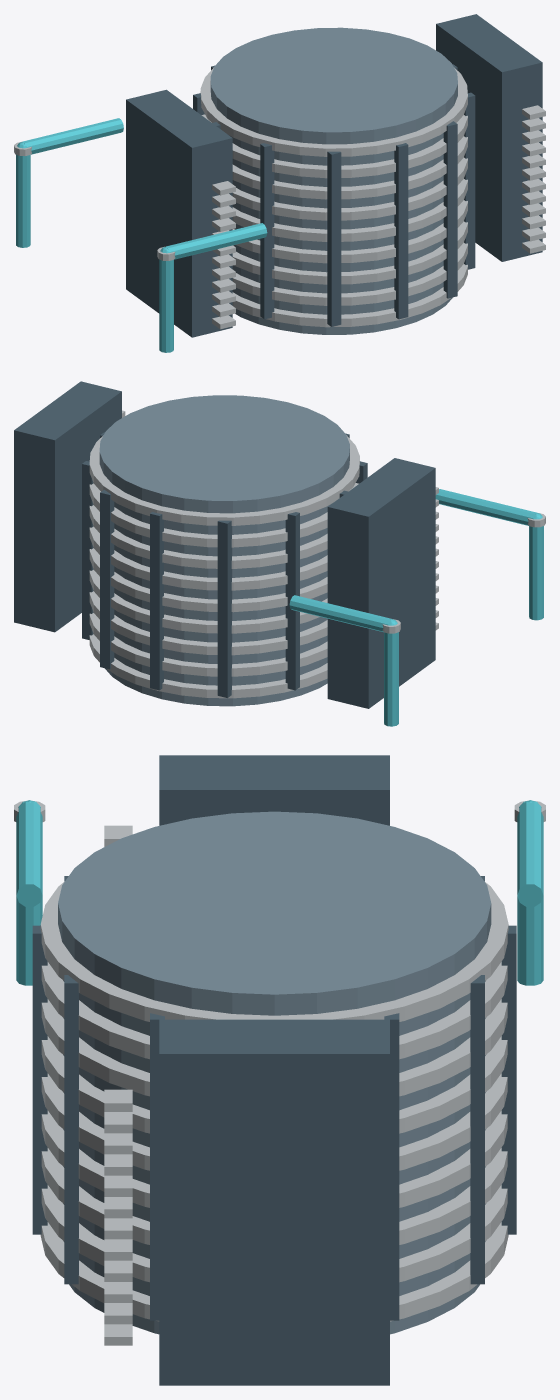
The model's file is 15_L74_VirtualDUVLightSource.glb.
3 views of the same model, one above another, from view 1: azimuth 30°, elevation 25°; view 2: azimuth 150°, elevation 25°; view 3: azimuth 270°, elevation 25° (orthographic). The views are drawn at different scales.
Parts seen in each view (by area): view 1: VirtualDUVLightSource_Node_0000, VirtualDUVLightSource_Node_0035, VirtualDUVLightSource_Node_0048, VirtualDUVLightSource_Node_0017, VirtualDUVLightSource_Node_0001, VirtualDUVLightSource_Node_0015, VirtualDUVLightSource_Node_0013, VirtualDUVLightSource_Node_0005, VirtualDUVLightSource_Node_0011, VirtualDUVLightSource_Node_0003, VirtualDUVLightSource_Node_0023, VirtualDUVLightSource_Node_0009 (+9 smaller); view 2: VirtualDUVLightSource_Node_0000, VirtualDUVLightSource_Node_0035, VirtualDUVLightSource_Node_0048, VirtualDUVLightSource_Node_0017, VirtualDUVLightSource_Node_0001, VirtualDUVLightSource_Node_0015, VirtualDUVLightSource_Node_0011, VirtualDUVLightSource_Node_0013, VirtualDUVLightSource_Node_0003, VirtualDUVLightSource_Node_0005, VirtualDUVLightSource_Node_0009, VirtualDUVLightSource_Node_0027 (+9 smaller); view 3: VirtualDUVLightSource_Node_0000, VirtualDUVLightSource_Node_0048, VirtualDUVLightSource_Node_0035, VirtualDUVLightSource_Node_0017, VirtualDUVLightSource_Node_0013, VirtualDUVLightSource_Node_0015, VirtualDUVLightSource_Node_0001, VirtualDUVLightSource_Node_0003, VirtualDUVLightSource_Node_0007, VirtualDUVLightSource_Node_0005, VirtualDUVLightSource_Node_0009, VirtualDUVLightSource_Node_0011 (+10 smaller).
Part boxes in pixels (box(x1,y1,x2,y2)): VirtualDUVLightSource_Node_0000: box(210, 27, 457, 334); VirtualDUVLightSource_Node_0035: box(126, 89, 232, 337); VirtualDUVLightSource_Node_0048: box(436, 14, 542, 261); VirtualDUVLightSource_Node_0017: box(200, 67, 467, 156); VirtualDUVLightSource_Node_0001: box(232, 264, 467, 327); VirtualDUVLightSource_Node_0015: box(201, 114, 467, 178); VirtualDUVLightSource_Node_0013: box(232, 136, 467, 199); VirtualDUVLightSource_Node_0005: box(232, 221, 467, 284); VirtualDUVLightSource_Node_0011: box(232, 157, 467, 220); VirtualDUVLightSource_Node_0003: box(232, 242, 467, 305); VirtualDUVLightSource_Node_0023: box(327, 151, 341, 326); VirtualDUVLightSource_Node_0009: box(232, 179, 467, 241); VirtualDUVLightSource_Node_0000: box(99, 395, 349, 706); VirtualDUVLightSource_Node_0035: box(327, 458, 435, 708); VirtualDUVLightSource_Node_0048: box(14, 381, 121, 632); VirtualDUVLightSource_Node_0017: box(89, 435, 359, 525); VirtualDUVLightSource_Node_0001: box(89, 634, 327, 698); VirtualDUVLightSource_Node_0015: box(89, 483, 358, 547); VirtualDUVLightSource_Node_0011: box(89, 526, 327, 590); VirtualDUVLightSource_Node_0013: box(89, 505, 327, 568); VirtualDUVLightSource_Node_0003: box(89, 613, 327, 676); VirtualDUVLightSource_Node_0005: box(89, 591, 327, 655); VirtualDUVLightSource_Node_0009: box(89, 548, 327, 612); VirtualDUVLightSource_Node_0027: box(217, 520, 231, 697); VirtualDUVLightSource_Node_0000: box(58, 811, 491, 1334); VirtualDUVLightSource_Node_0048: box(159, 1019, 389, 1385); VirtualDUVLightSource_Node_0035: box(159, 755, 389, 825); VirtualDUVLightSource_Node_0017: box(40, 881, 508, 1021); VirtualDUVLightSource_Node_0013: box(41, 999, 507, 1096); VirtualDUVLightSource_Node_0015: box(41, 962, 507, 1059); VirtualDUVLightSource_Node_0001: box(40, 1222, 508, 1321); VirtualDUVLightSource_Node_0003: box(41, 1185, 507, 1282); VirtualDUVLightSource_Node_0007: box(41, 1110, 507, 1207); VirtualDUVLightSource_Node_0005: box(41, 1148, 507, 1244); VirtualDUVLightSource_Node_0009: box(41, 1073, 507, 1170); VirtualDUVLightSource_Node_0011: box(41, 1036, 507, 1133).
Bounding box in the file's own units: 2.39 × 1.12 × 1.5.
